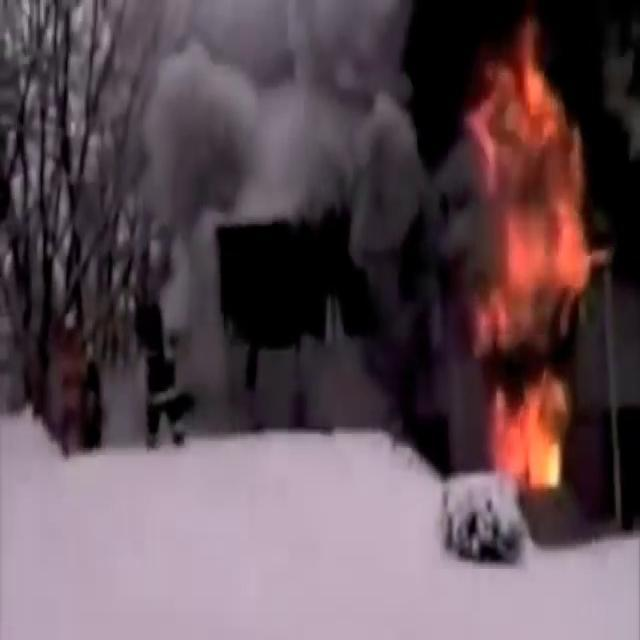Fire: (473, 54, 602, 497), (488, 368, 576, 506)
